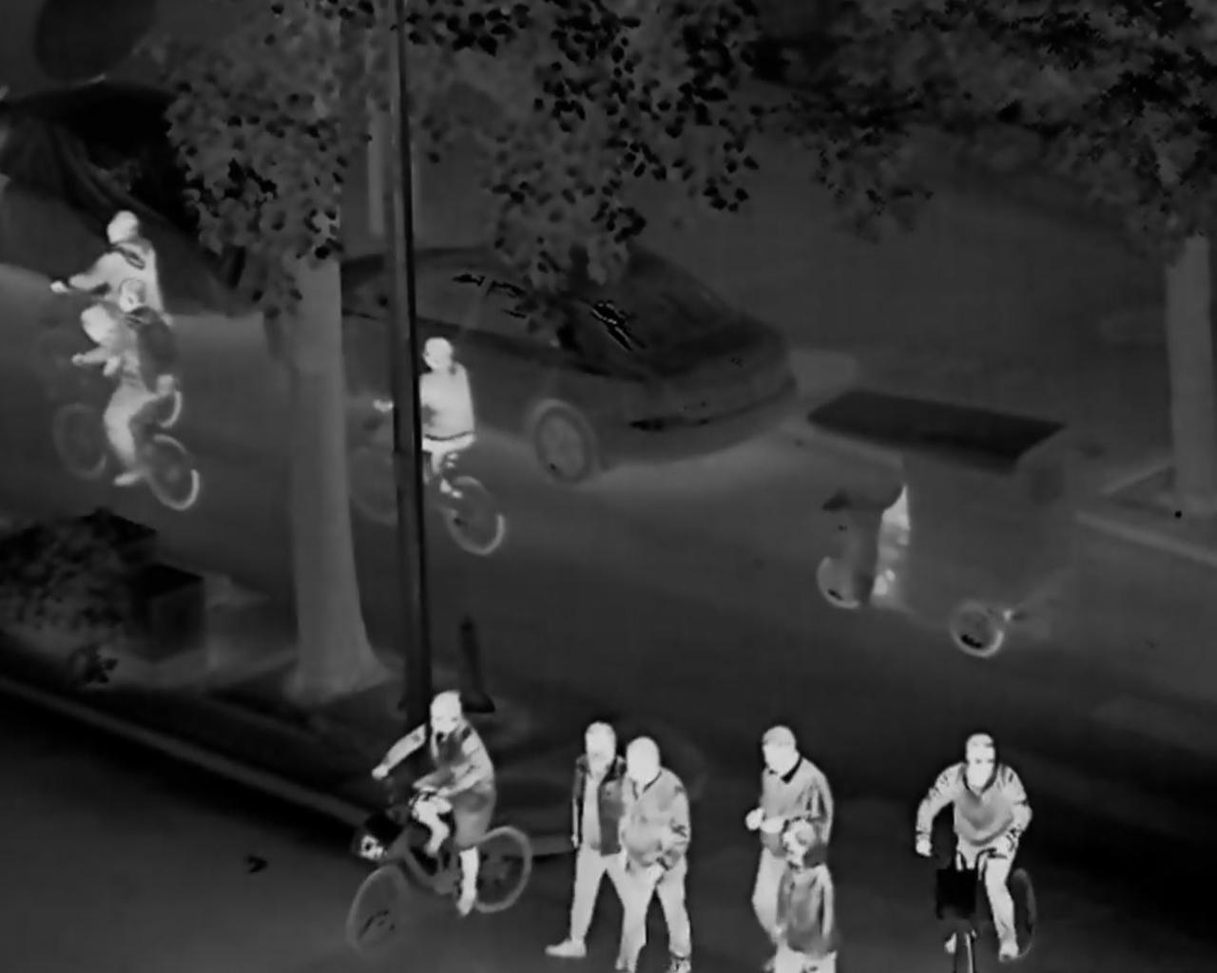person: (366, 689, 497, 919), (912, 732, 1032, 968), (544, 723, 653, 955), (738, 725, 835, 949), (73, 282, 175, 485), (611, 739, 697, 973), (48, 207, 167, 372), (372, 335, 476, 505), (760, 829, 839, 973), (877, 481, 912, 603)
